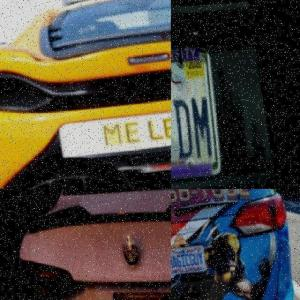Plate: (171, 23, 257, 189), (60, 109, 171, 157), (111, 280, 171, 300), (171, 242, 208, 274)
